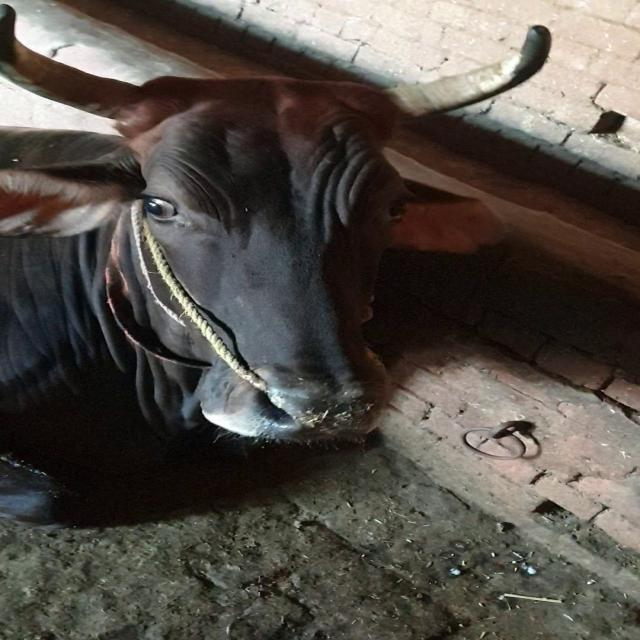cowFace: (134, 76, 442, 449)
